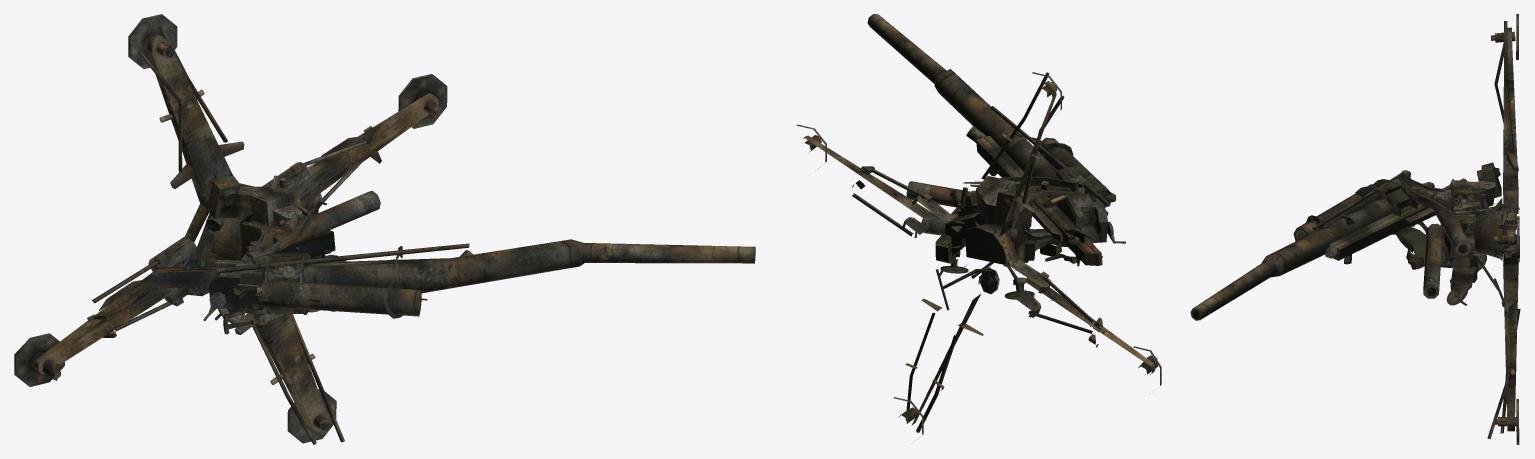
Rendered from german_artillery_flak88_aa_d_static.glb.
3 views of the same model, side by side, from view 1: azimuth 30°, elevation 25°; view 2: azimuth 150°, elevation 25°; view 3: azimuth 270°, elevation 25° (orthographic). The views are drawn at different scales.
Size of the model in its own units: 301 by 246 by 203.
Materials: 1 (1 with a texture image).
